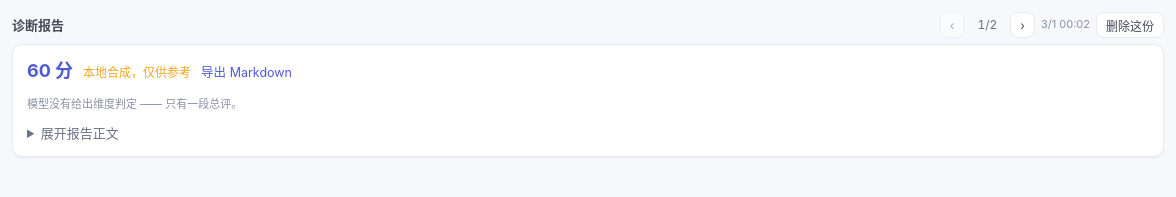
Test: ReportHistory（jsdom） › ★ 换一份时二次确认自动收起（否则「确认删除」会跟着跑到另一份下面）
Click the button "删除这份" at (1130, 25), box [1096,12,1164,38]
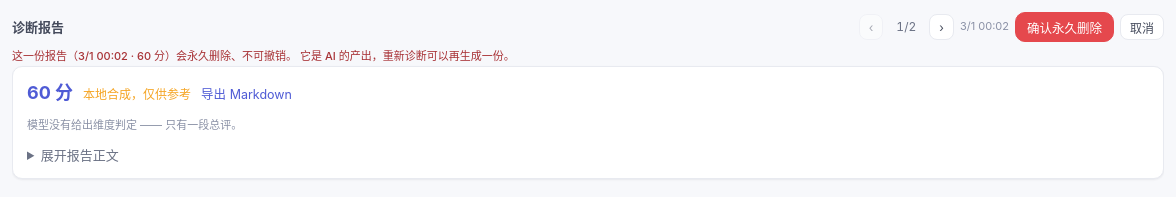
Now the text "不可撤销" is shown, box [165,49,515,63]
Click the button "›" at (942, 27), box [929,14,954,40]
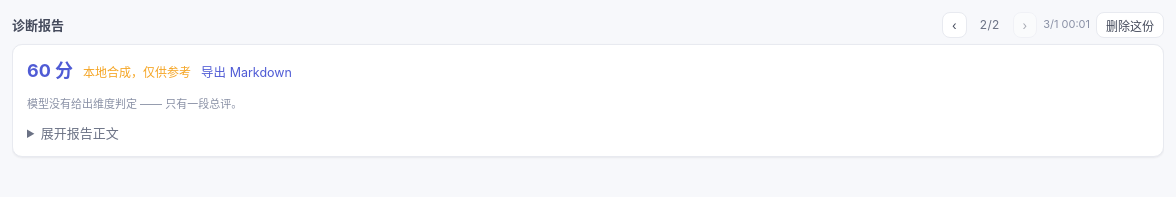
Now the text "不可撤销" is gone
